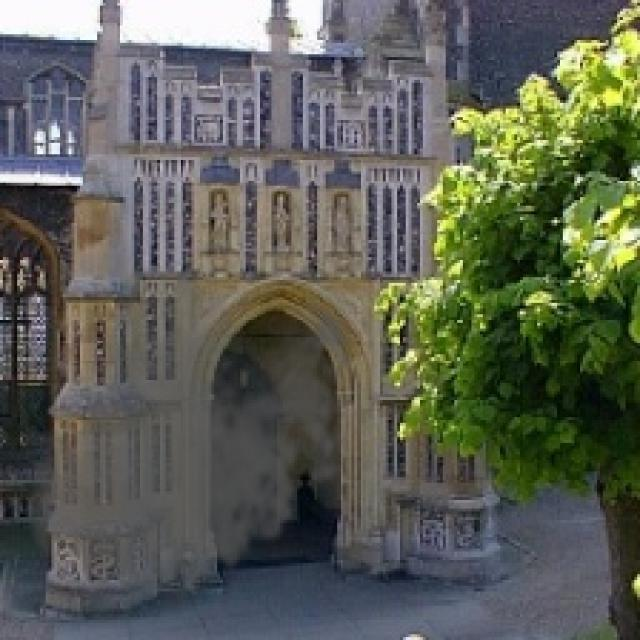Smoke: (20, 271, 363, 620)
